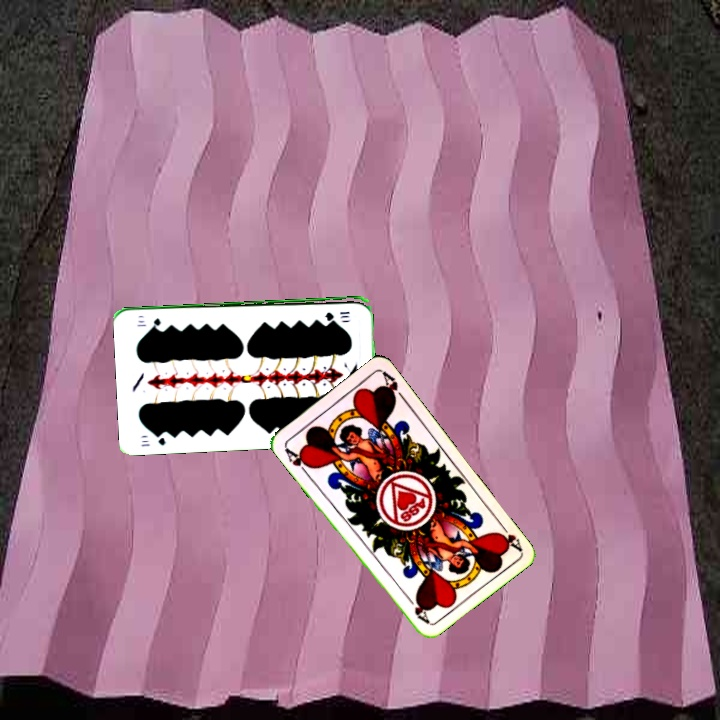G10: (137, 430, 168, 449), (321, 307, 352, 320)
HA: (280, 444, 315, 478), (492, 517, 524, 553)
